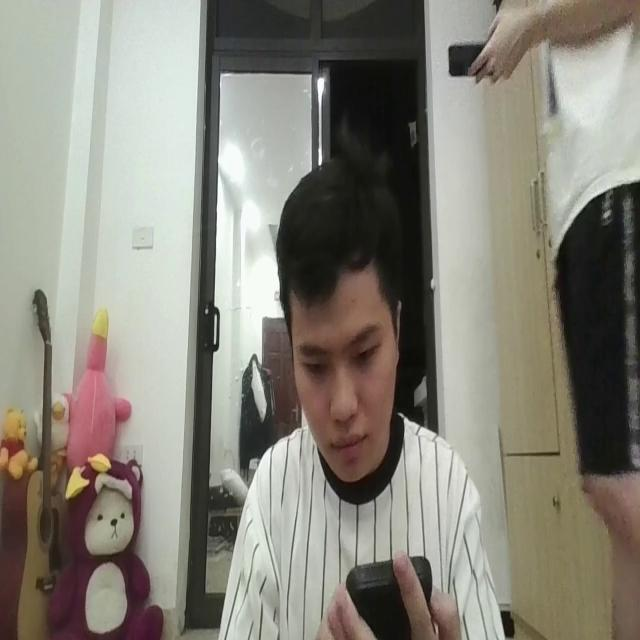extra_person: (486, 0, 640, 640)
phone: (446, 31, 500, 94)
student: (223, 155, 500, 640)
